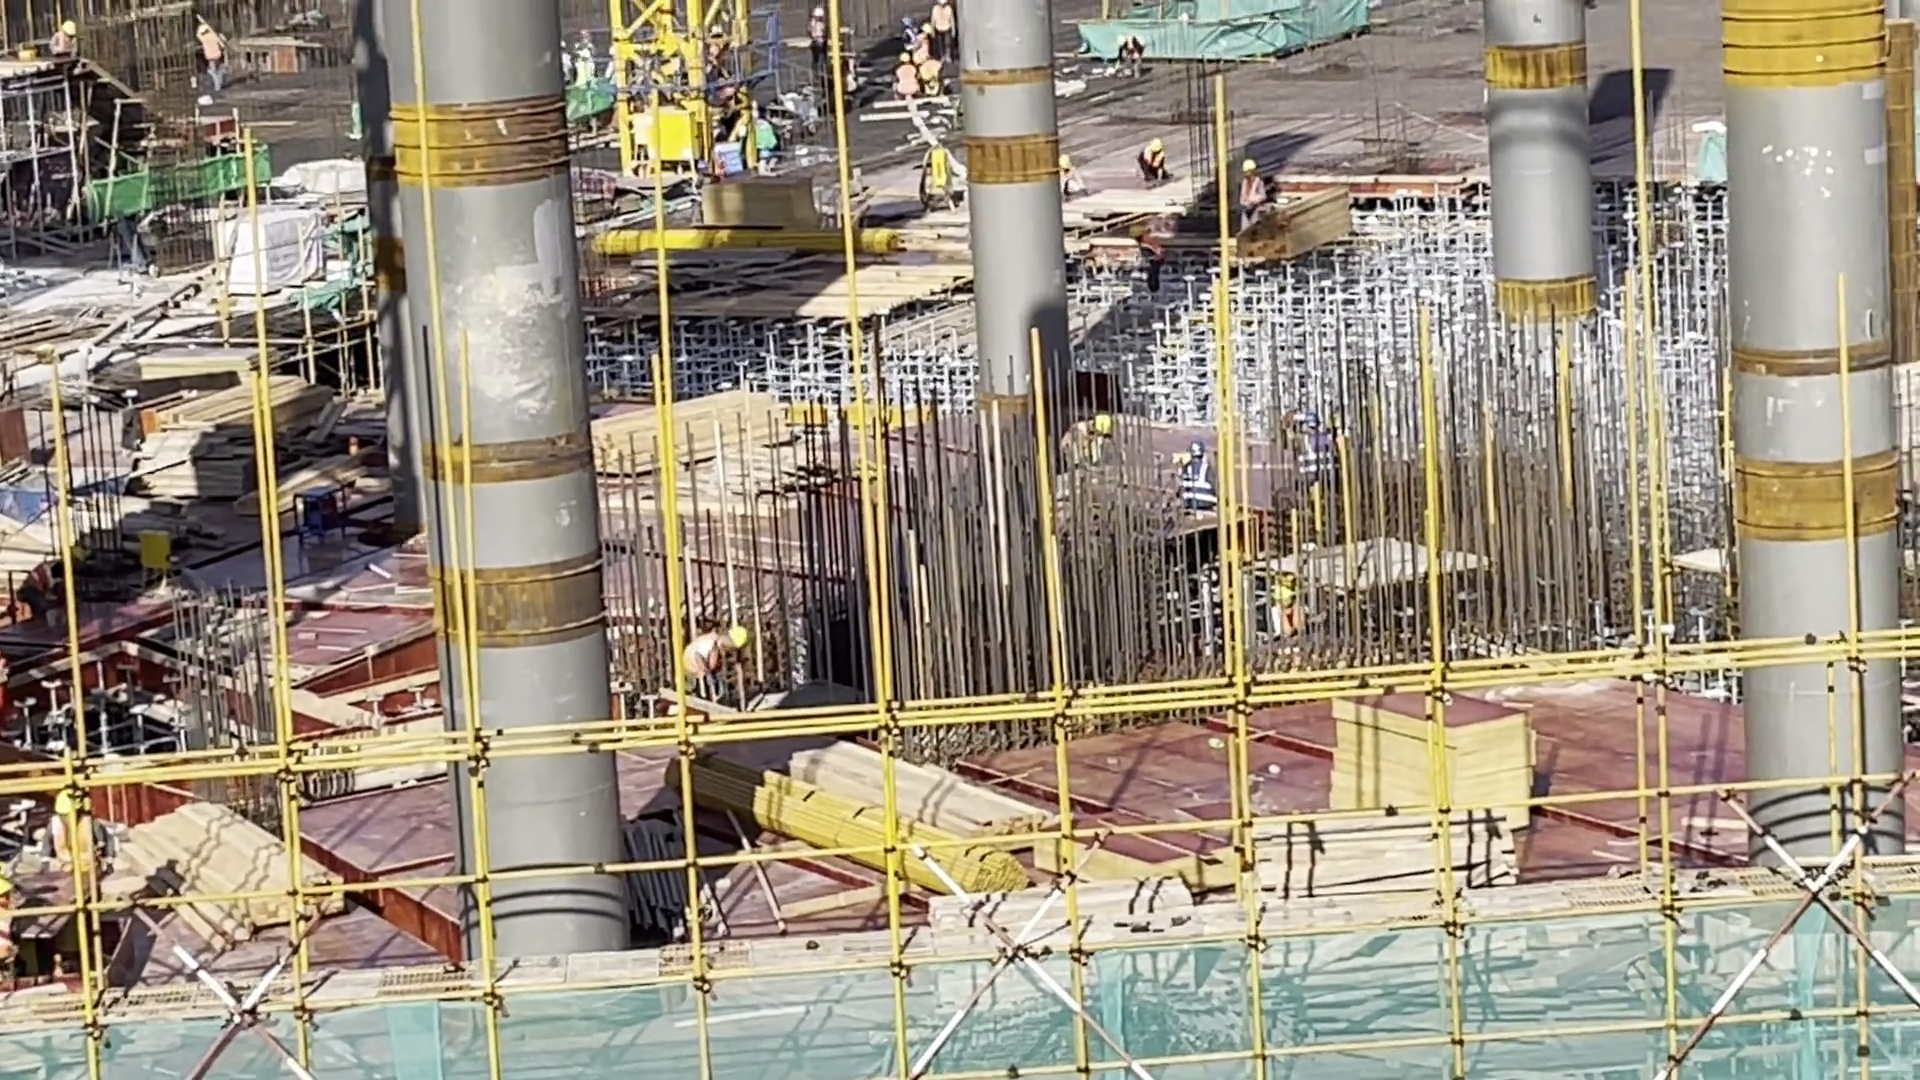ebox: (637, 106, 706, 179), (134, 531, 174, 587), (925, 146, 953, 202)
helmet: (1180, 436, 1217, 466), (1235, 156, 1262, 180), (731, 622, 752, 651), (1090, 413, 1115, 436), (1146, 135, 1164, 149)
person: (657, 611, 762, 710), (1058, 405, 1118, 480), (1165, 439, 1219, 515), (1220, 157, 1277, 222), (1137, 125, 1172, 190), (933, 7, 964, 62), (806, 12, 837, 63), (887, 47, 912, 95)
vest: (682, 628, 724, 678), (1059, 419, 1093, 461), (1179, 466, 1219, 500), (1237, 177, 1264, 203), (1140, 148, 1165, 171)
wood: (142, 812, 315, 908)
